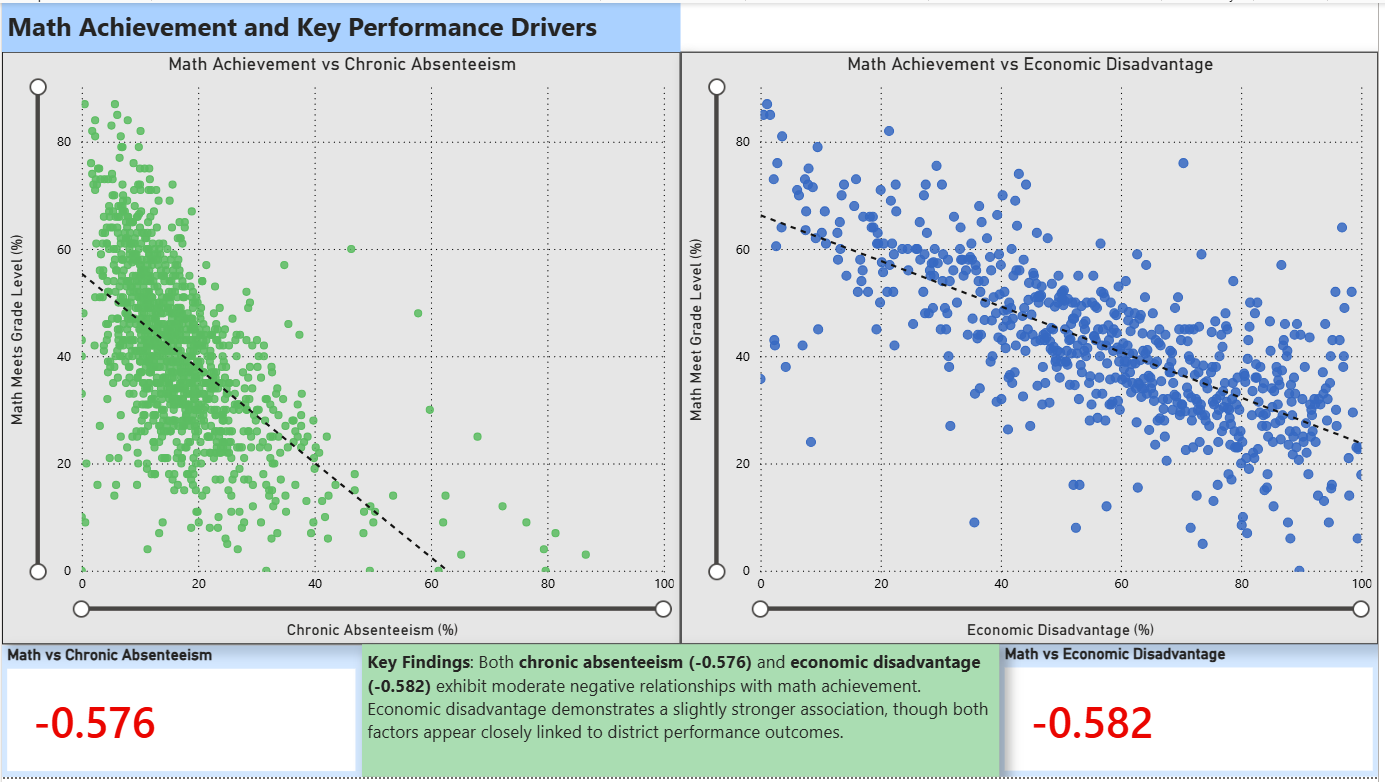

This screenshot's page, from the dashboard's own definition file:
{"tool":"powerbi","page":{"name":"Math Achievement Drivers","canvas":[1280,720],"ordinal":1},"visuals":[{"type":"scatterChart","title":"Math Achievement vs Chronic Absenteeism","fields":{"X":["Avg(district_analysis_clean.chronic_absenteeism_rate)"],"Y":["Avg(district_analysis_clean.math_meets_pct)"],"Category":["district_analysis_clean.district_name"]},"box":[0,45.3,631.4,551.2],"z":0},{"type":"scatterChart","title":"Math Achievement vs Economic Disadvantage","fields":{"Y":["Avg(district_analysis_clean.math_meets_pct)"],"X":["district_analysis_clean.econ_disadv_pct"]},"box":[631.4,45.3,648.8,551.2],"z":1000},{"type":"textbox","box":[0,0,631.4,45.3],"z":2000},{"type":"cardVisual","title":"Math vs Chronic Absenteeism","fields":{"Data":["district_analysis_clean.Corr Math vs Chronic Absenteeism"]},"box":[0,597.7,334.9,122.1],"z":3000},{"type":"cardVisual","title":"Math vs Economic Disadvantage","fields":{"Data":["district_analysis_clean.Corr Math vs Economic Disadvantage"]},"box":[927.9,596.5,352.3,123.3],"z":4000},{"type":"textbox","box":[334.9,596.5,593,123.3],"z":5000}]}

Visuals, with their boxes in screenshot pixels (x1, y1, x2, y2), scaled from the page's 1280x720 canvas onto the 1385x782 screenshot:
"Math Achievement vs Chronic Absenteeism" scatterChart: [0, 49, 683, 648]
"Math Achievement vs Economic Disadvantage" scatterChart: [683, 49, 1384, 648]
textbox: [0, 0, 683, 49]
"Math vs Chronic Absenteeism" cardVisual: [0, 649, 362, 781]
"Math vs Economic Disadvantage" cardVisual: [1004, 648, 1384, 781]
textbox: [362, 648, 1004, 781]
